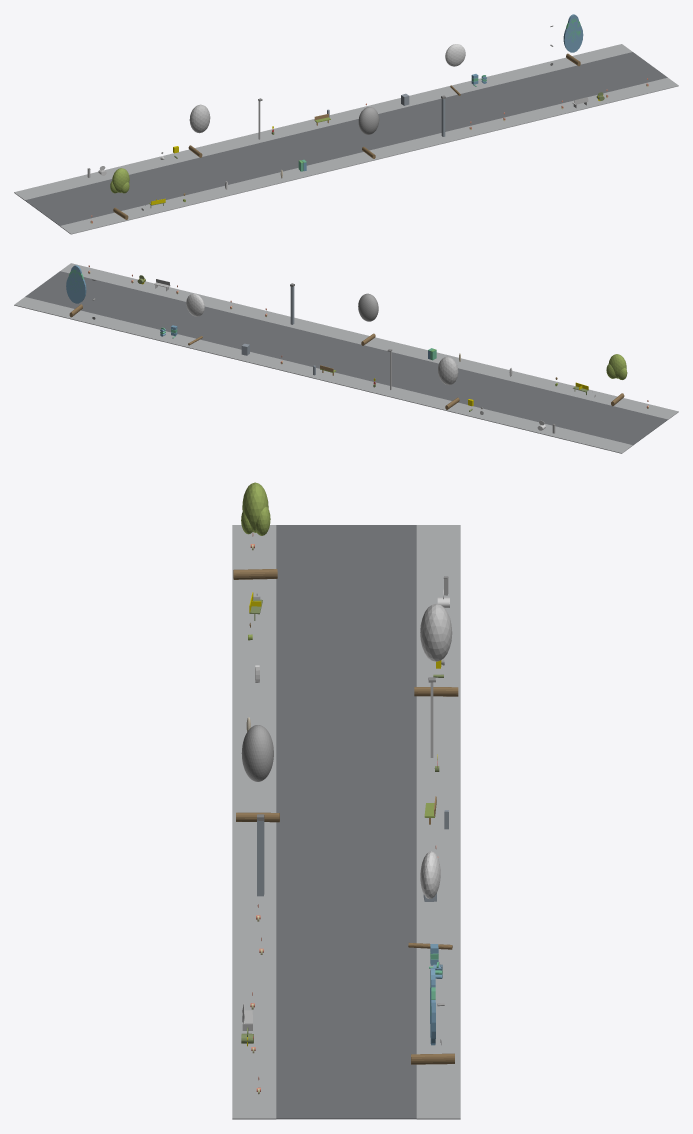
The picture shows the model from 3 angles, top to bottom: view 1: azimuth 30°, elevation 25°; view 2: azimuth 150°, elevation 25°; view 3: azimuth 270°, elevation 25°; orthographic projection. The views are drawn at different scales.
Visible parts, largest first — view 1: road_slab, sidewalk_left, sidewalk_right, inst_0016, inst_0013, inst_0014, inst_0012, inst_0015; view 2: road_slab, sidewalk_right, sidewalk_left, inst_0016, inst_0013, inst_0014, inst_0012, inst_0015; view 3: road_slab, sidewalk_left, sidewalk_right, inst_0013, inst_0014, inst_0012, inst_0015, inst_0016.
Boxes of the visible parts, left/top/right/bottom form: road_slab: left=25, top=52, right=667, bottom=225; sidewalk_left: left=60, top=77, right=678, bottom=234; sidewalk_right: left=14, top=44, right=632, bottom=200; inst_0016: left=563, top=14, right=583, bottom=66; inst_0013: left=188, top=104, right=210, bottom=157; inst_0014: left=358, top=107, right=379, bottom=158; inst_0012: left=110, top=168, right=129, bottom=219; inst_0015: left=445, top=44, right=465, bottom=95; road_slab: left=25, top=271, right=667, bottom=445; sidewalk_right: left=14, top=297, right=632, bottom=453; sidewalk_left: left=60, top=263, right=678, bottom=419; inst_0016: left=66, top=265, right=86, bottom=317; inst_0013: left=438, top=356, right=459, bottom=409; inst_0014: left=358, top=293, right=378, bottom=345; inst_0012: left=606, top=354, right=627, bottom=406; inst_0015: left=186, top=293, right=204, bottom=345; road_slab: left=276, top=525, right=416, bottom=1119; sidewalk_left: left=232, top=525, right=276, bottom=1119; sidewalk_right: left=416, top=525, right=460, bottom=1119; inst_0013: left=414, top=603, right=458, bottom=696; inst_0014: left=236, top=725, right=279, bottom=822; inst_0012: left=233, top=482, right=277, bottom=579; inst_0015: left=408, top=851, right=452, bottom=949; inst_0016: left=411, top=968, right=454, bottom=1064.
Size of the model in its own units: 80 by 6.08 by 13.
